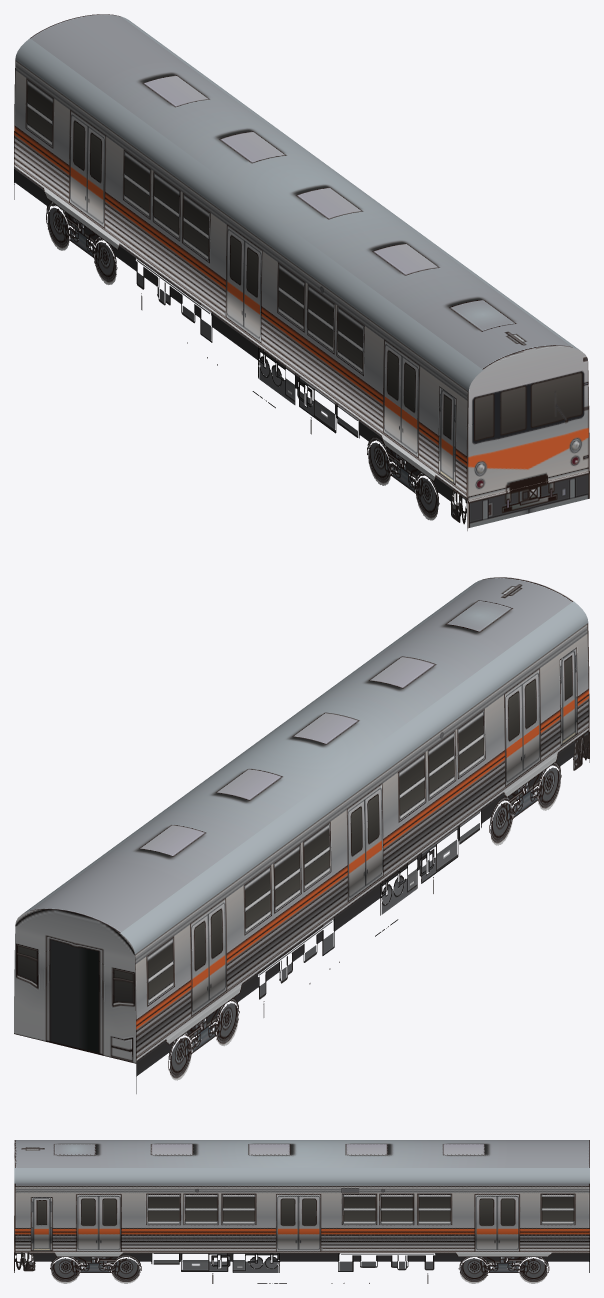
File: car1.glb
The picture shows the model from 3 angles, top to bottom: view 1: azimuth 30°, elevation 25°; view 2: azimuth 150°, elevation 25°; view 3: azimuth 270°, elevation 25°; orthographic projection. The views are drawn at different scales.
Parts seen in each view (by area): view 1: hokuriku-7200-car1; view 2: hokuriku-7200-car1; view 3: hokuriku-7200-car1.
Part boxes in pixels (box(x1,y1,x2,y2)): hokuriku-7200-car1: box(14, 14, 589, 530); hokuriku-7200-car1: box(14, 577, 589, 1093); hokuriku-7200-car1: box(14, 1140, 589, 1283).
Bounding box in the file's own units: 2.8 × 4.03 × 18.01.
7 materials, 6 textured.
